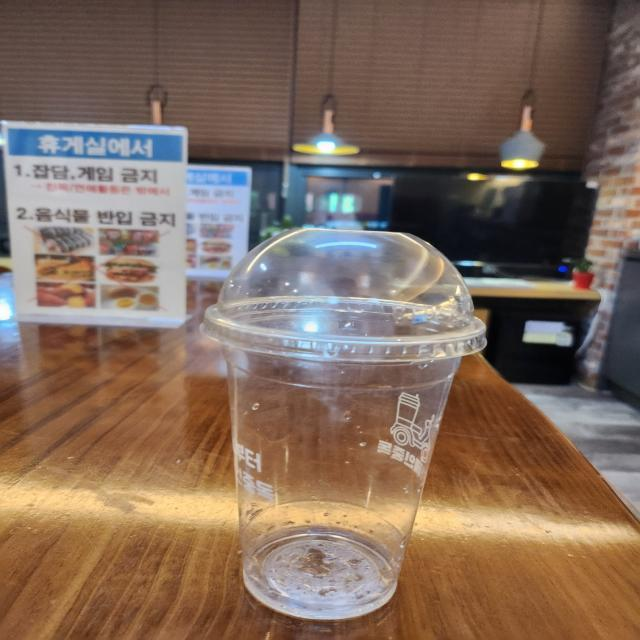plastic_cup_lid: (198, 201, 490, 377)
